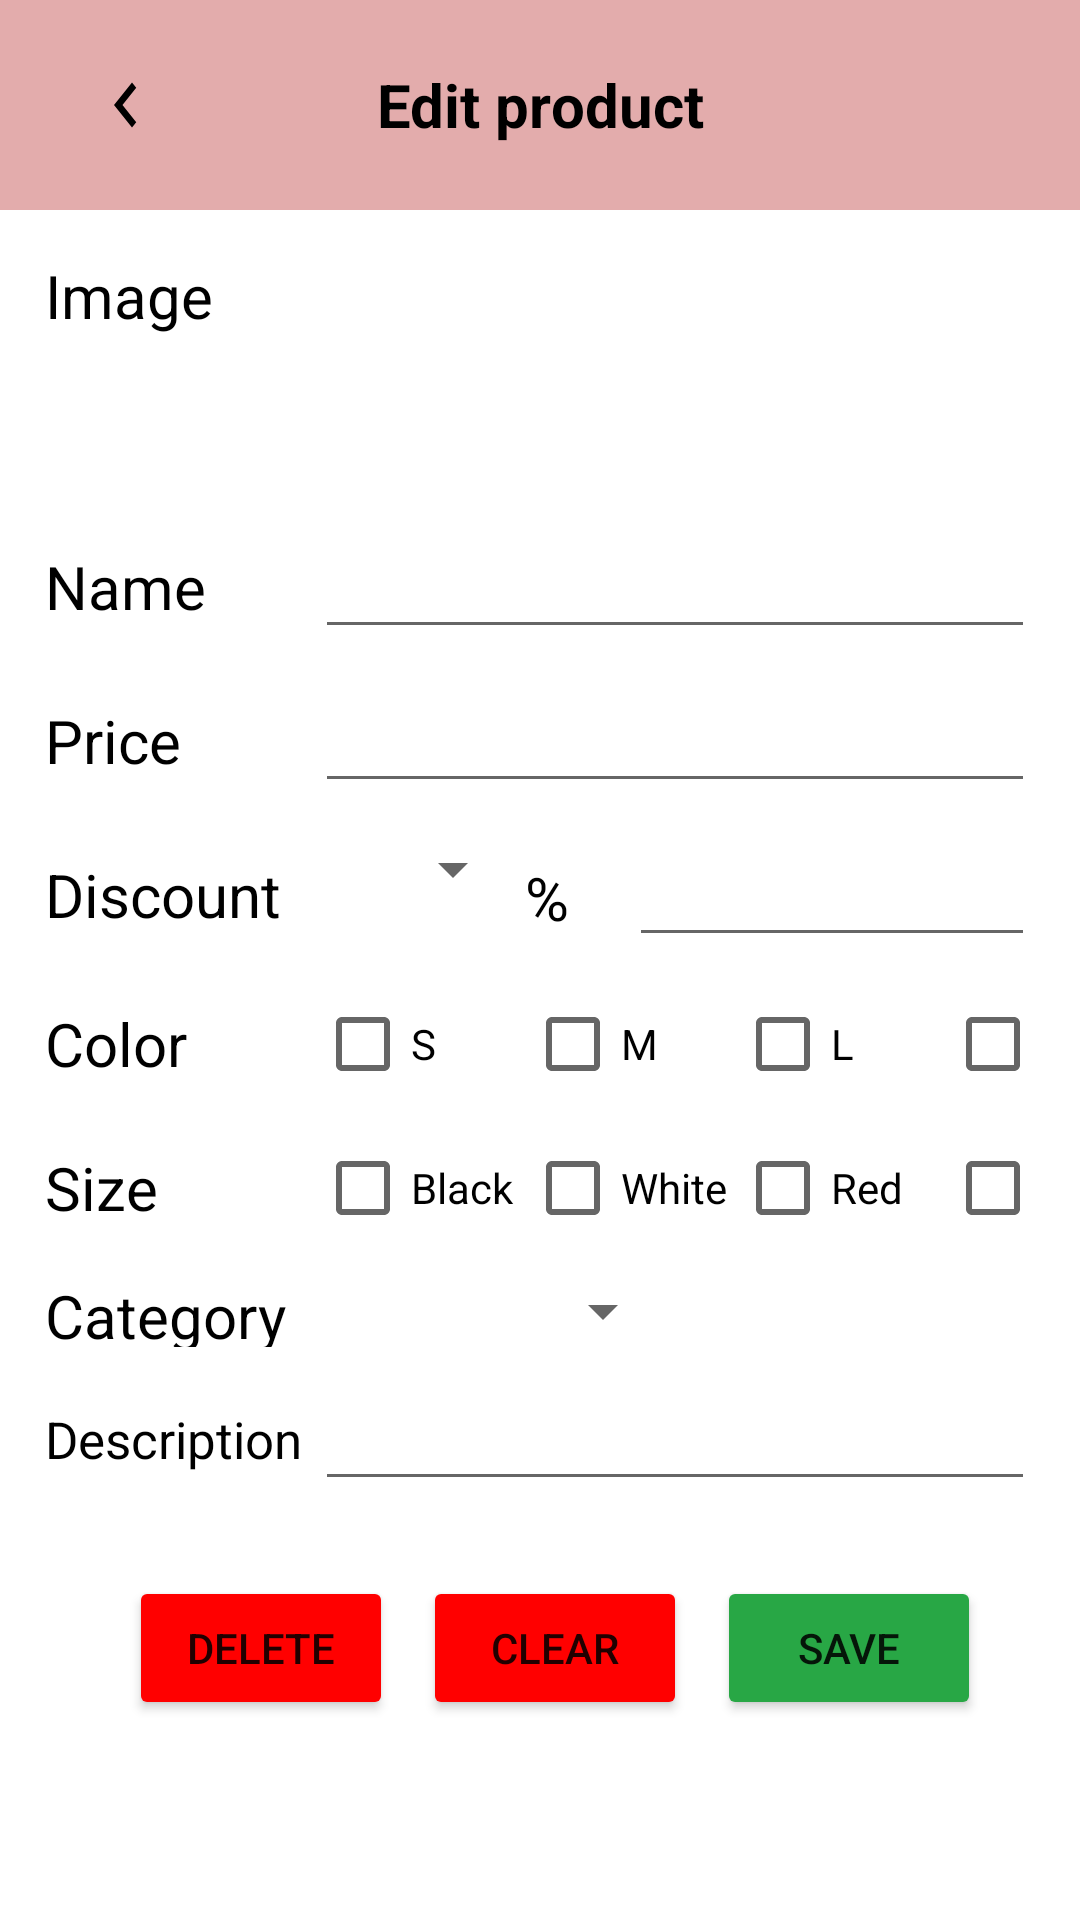

Icons on this 1080px×1920px Android screen, each with the point to tap as (x=x, y=y):
chevron left: (x=125, y=105)
